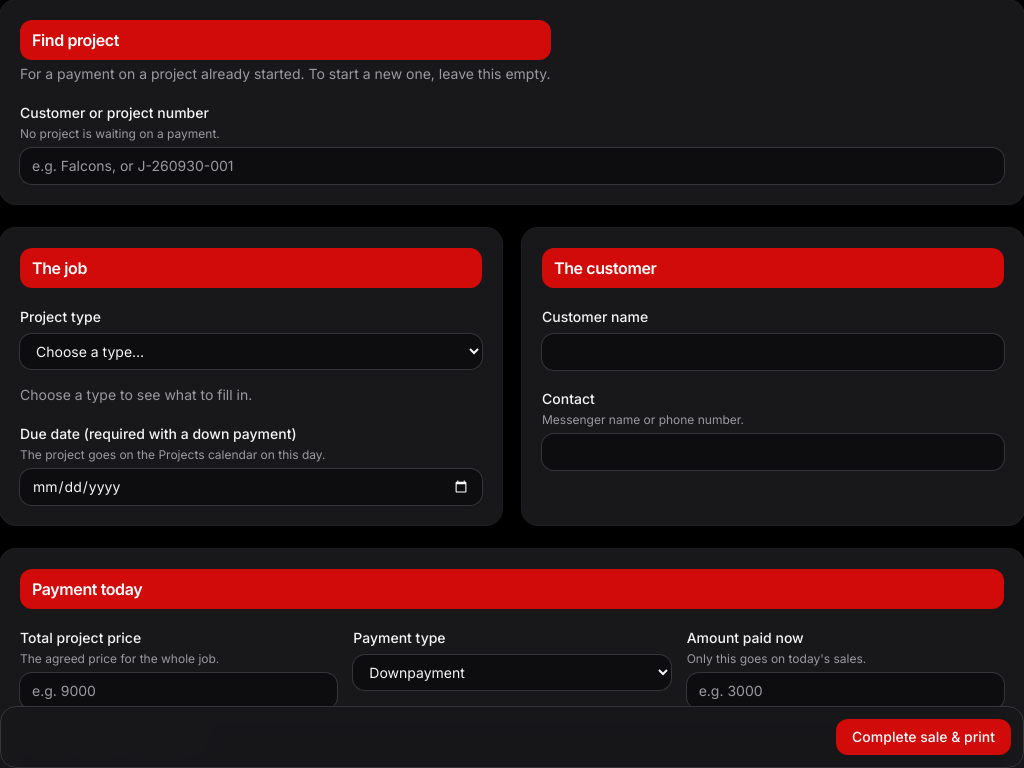
Test: the job › asks apparel for the kind of uniform, the pieces and a size breakdown
The width and height of the screenshot is (1024, 768).
Select "Apparel" in the dropdown labelled "Project type" at (251, 352), box x1=20 y1=334 x2=482 y2=369
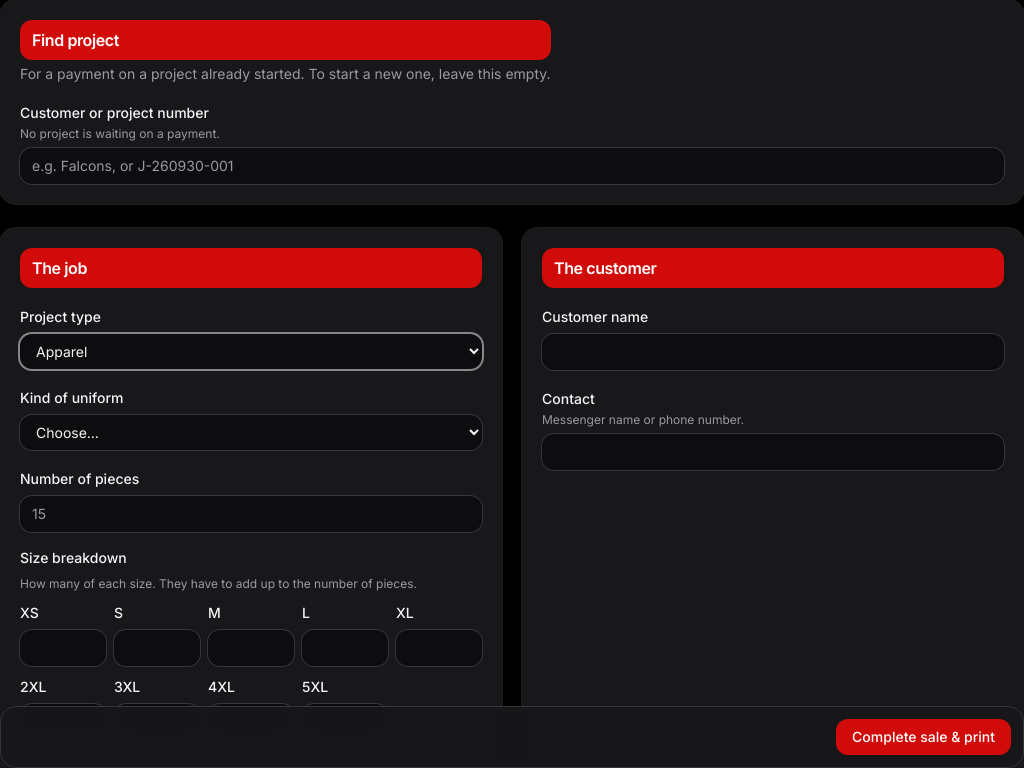
Expected: the field labelled "Number of pieces" is shown, x1=20 y1=496 x2=482 y2=532
Expected: the field labelled "XS" is shown, x1=20 y1=630 x2=106 y2=666
Expected: the field labelled "S" is shown, x1=114 y1=630 x2=200 y2=666
